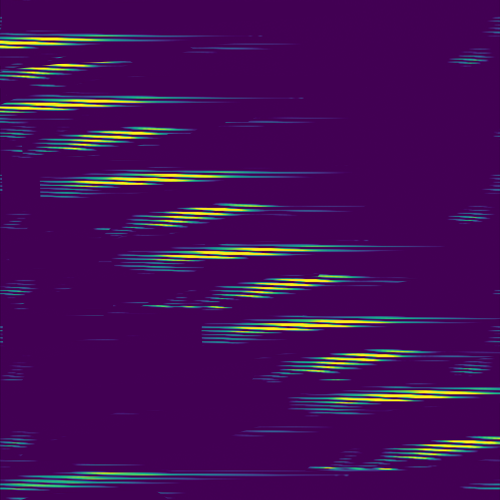semblance: (372, 432, 500, 474), (43, 123, 182, 154), (151, 241, 329, 263), (70, 166, 229, 190), (232, 271, 356, 301), (146, 201, 274, 230), (326, 385, 485, 407), (298, 347, 417, 376), (1, 96, 148, 116), (228, 317, 389, 335), (2, 59, 126, 80), (1, 30, 122, 50)
